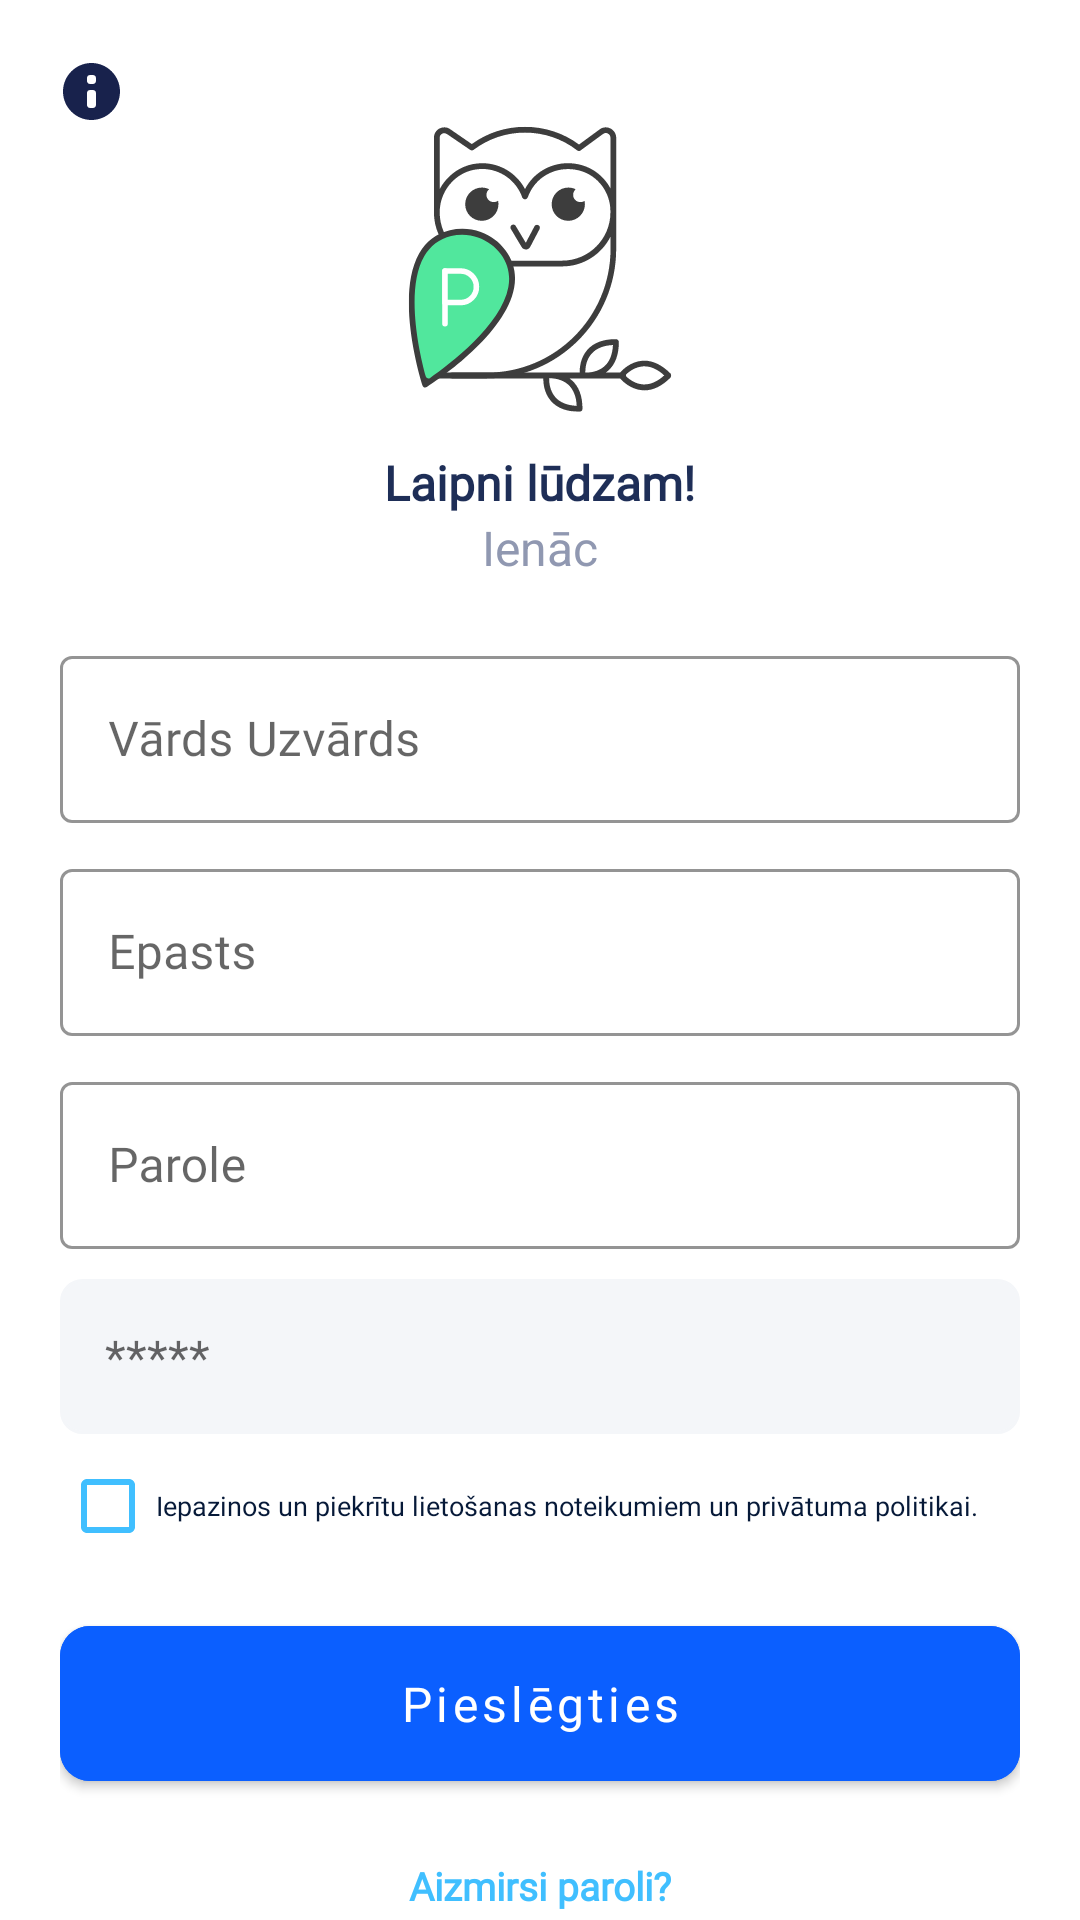

Icons on this 1080×1920 Android screen, each with its box as BBox(x1, y1, x2, y2):
details: BBox(63, 63, 120, 120)
